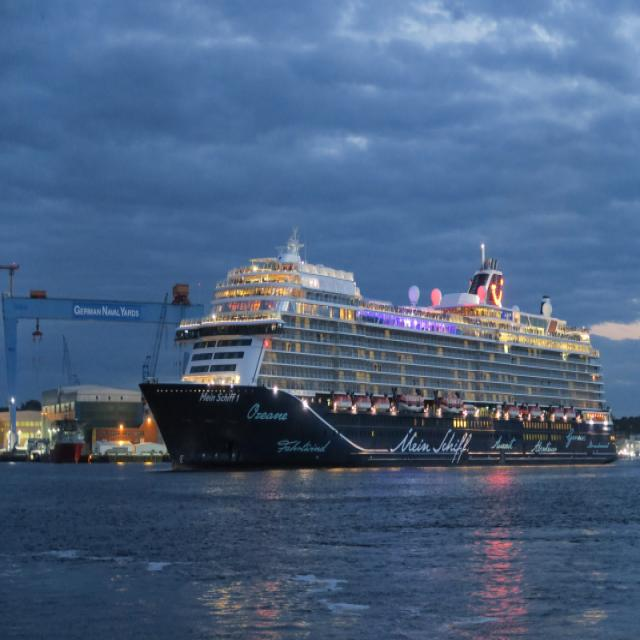cruises: (136, 228, 624, 466)
